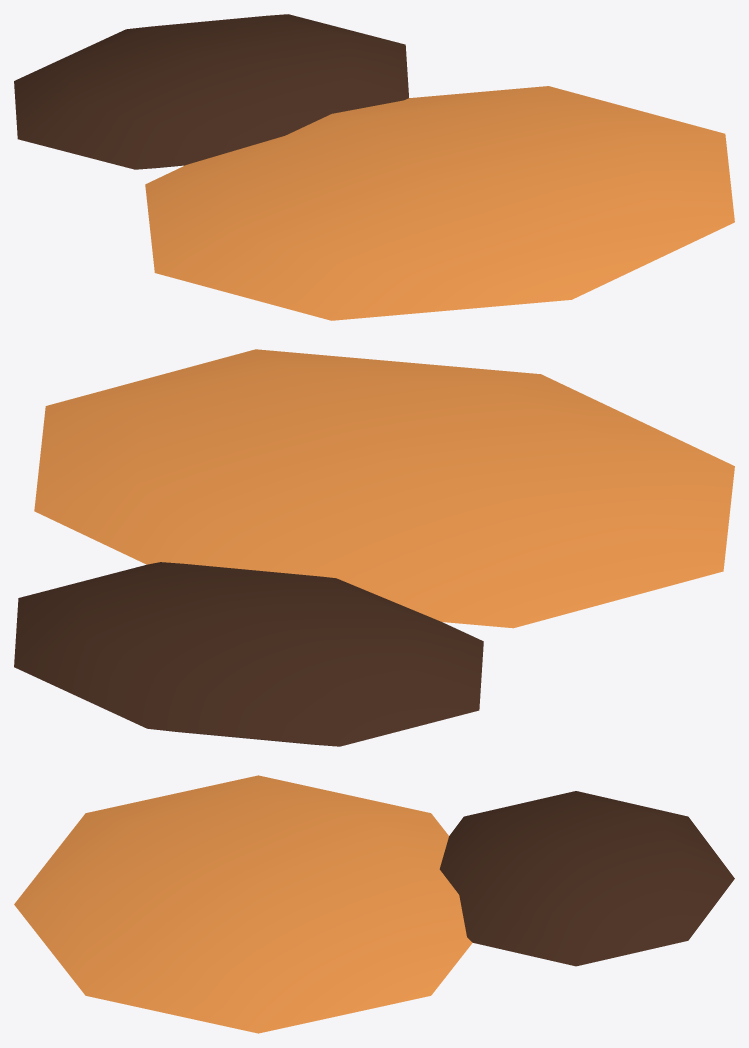
File: ButterflyOrange_WingL.fbx
3 views of the same model, one above another, from view 1: azimuth 30°, elevation 25°; view 2: azimuth 150°, elevation 25°; view 3: azimuth 270°, elevation 25° (orthographic). The views are drawn at different scales.
Visible parts, largest first — view 1: ButterflyOrange_WingL_EXP; view 2: ButterflyOrange_WingL_EXP; view 3: ButterflyOrange_WingL_EXP.
Boxes of the visible parts, box(x1,y1,x2,y2) form: ButterflyOrange_WingL_EXP: box(14, 14, 734, 320); ButterflyOrange_WingL_EXP: box(14, 349, 734, 746); ButterflyOrange_WingL_EXP: box(14, 775, 734, 1033).
Size of the model in its own units: 0.05 by 0.005 by 0.059.
